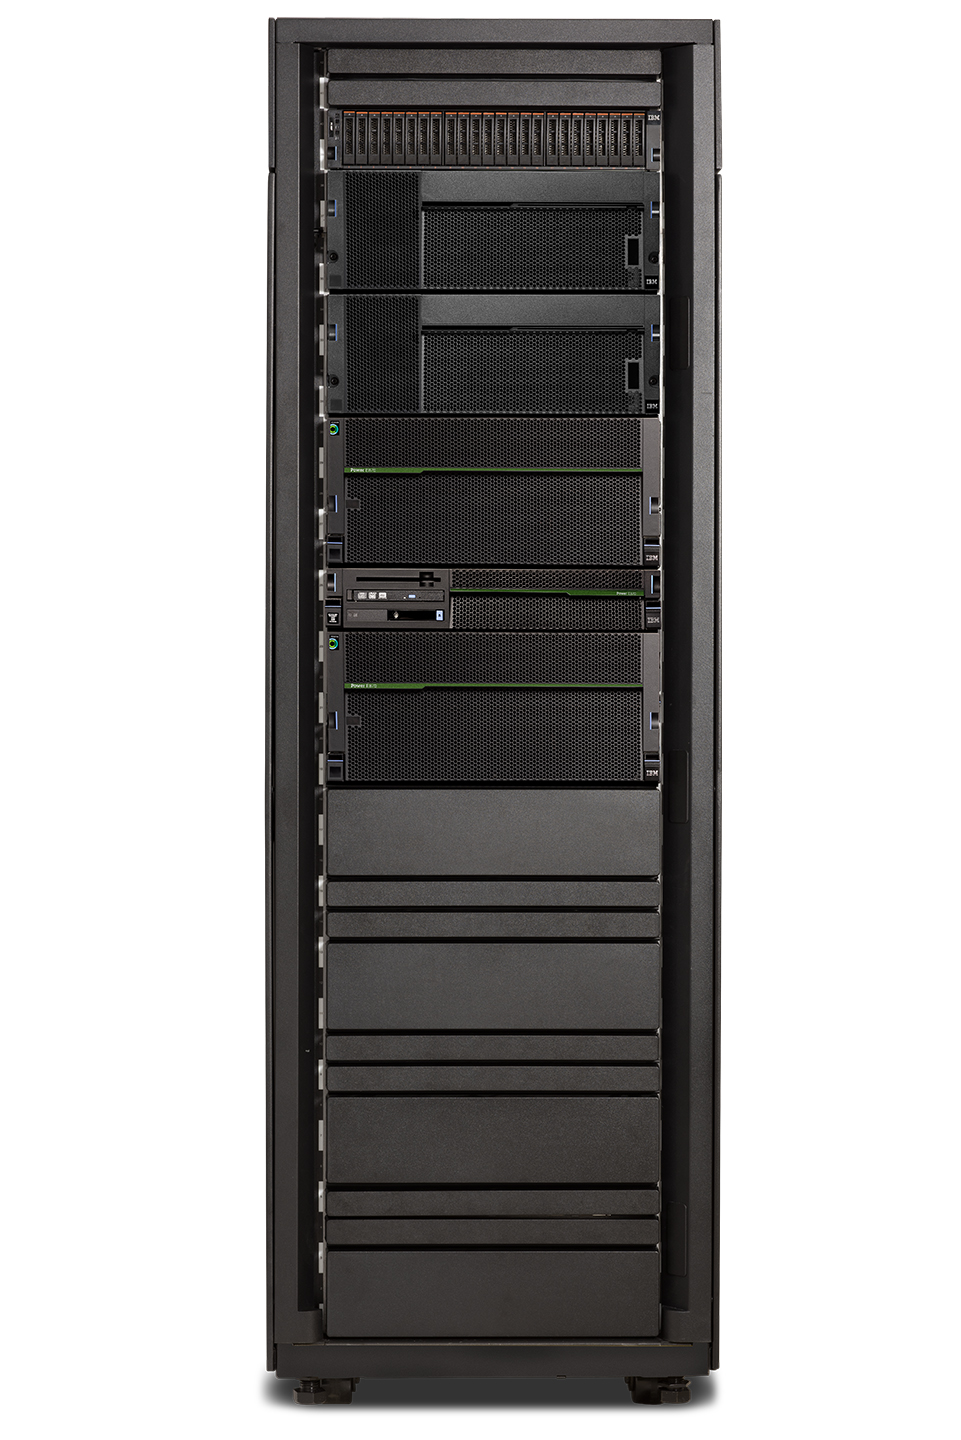ibm-server: (246, 10, 740, 1422), (311, 568, 668, 785), (311, 163, 679, 307), (317, 301, 683, 434)
